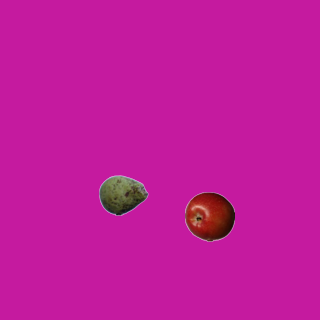Apple Braeburn: (184, 191, 234, 241)
Pear Stone: (98, 170, 148, 220)
